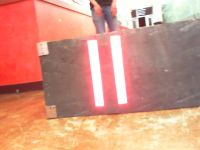switch: (109, 35, 127, 104), (87, 40, 105, 107)
